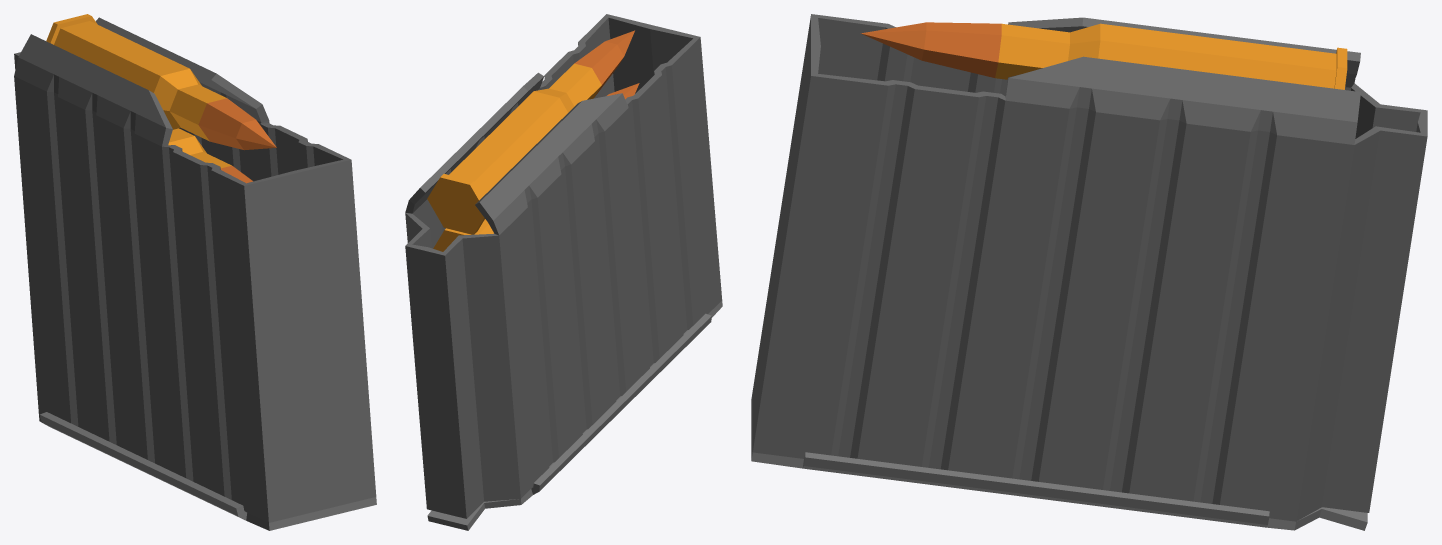
The model's file is Gewehr_43_magazine.fbx.
The picture shows the model from 3 angles, left to right: view 1: azimuth 30°, elevation 25°; view 2: azimuth 150°, elevation 25°; view 3: azimuth 270°, elevation 25°; orthographic projection. The views are drawn at different scales.
Parts seen in each view (by area): view 1: SVD.005; view 2: SVD.005; view 3: SVD.005.
Part boxes in pixels (<box>): SVD.005: <box>14,14,376,530</box>; SVD.005: <box>405,14,722,530</box>; SVD.005: <box>751,14,1427,530</box>.
Bounding box in the file's own units: 2.65 × 8.21 × 10.24.
